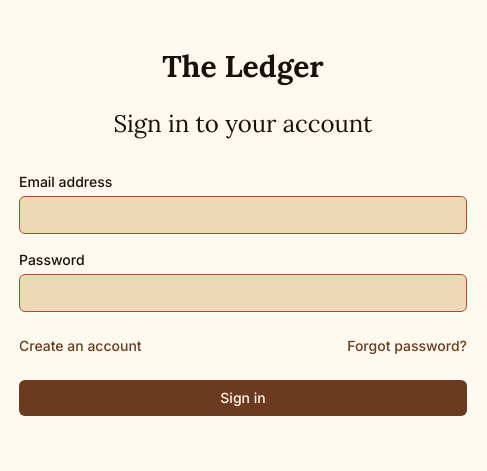
LoginPage › should handle unexpected errors
Step 1. Type "test@example.com" into the field labelled "Email address" → (243, 215), box [19, 196, 467, 234]
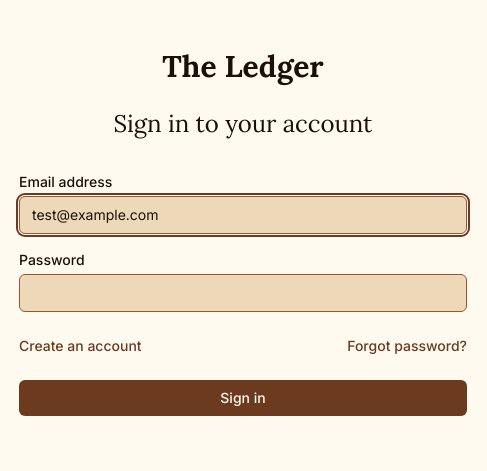
Step 2. Type "password123" into the password field labelled "Password" → (243, 293), box [19, 274, 467, 312]
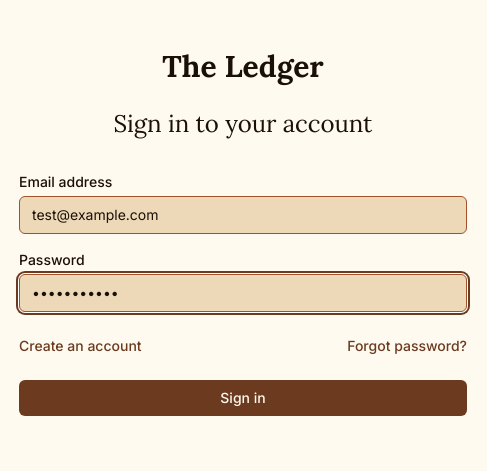
Step 3. Click the button "Sign in" → click(243, 398), box [19, 380, 467, 416]
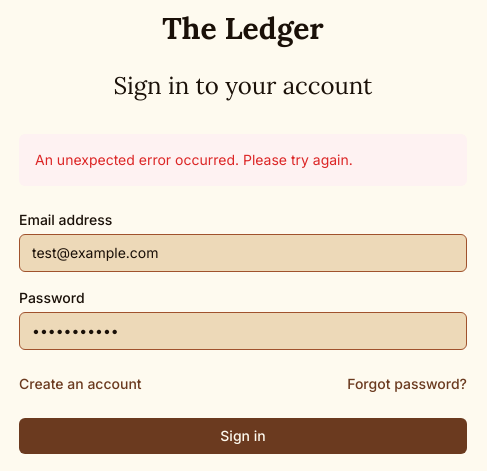
Expected: the text "An unexpected error occurred. Please try again." is shown, [19, 134, 467, 186]
